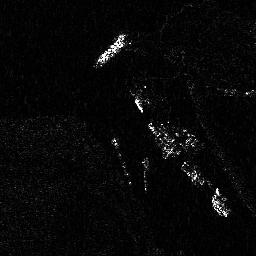ship: (94, 32, 133, 67), (111, 137, 132, 184), (141, 157, 150, 193)
